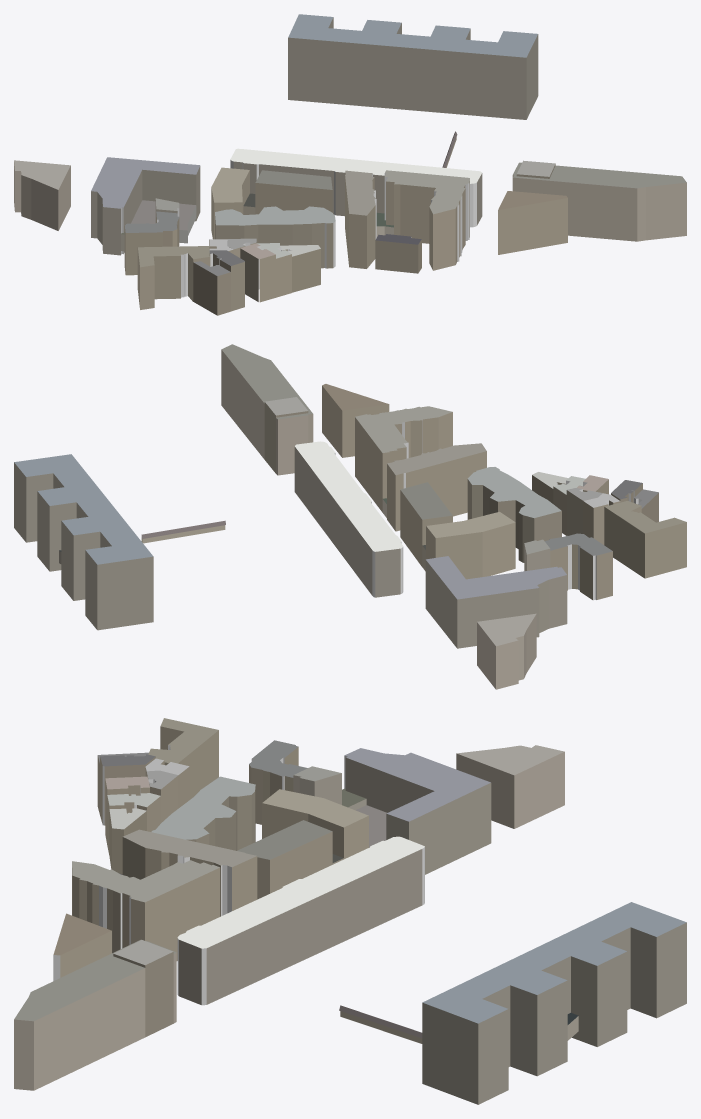
The picture shows the model from 3 angles, top to bottom: view 1: azimuth 30°, elevation 25°; view 2: azimuth 150°, elevation 25°; view 3: azimuth 270°, elevation 25°; orthographic projection. The views are drawn at different scales.
Visible parts, largest first — view 1: tuile; view 2: tuile; view 3: tuile.
Part boxes in pixels (box(x1,y1,x2,y2)): tuile: box(14, 14, 686, 315); tuile: box(14, 344, 686, 689); tuile: box(14, 718, 686, 1104).
Bounding box in the file's own units: 325 × 43.13 × 280.
